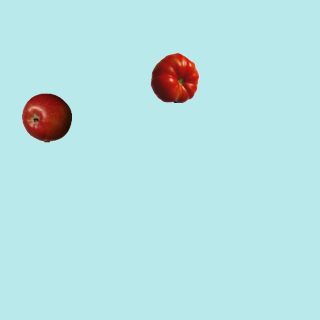Apple Braeburn: (21, 92, 71, 142)
Tomato 3: (149, 52, 199, 102)
